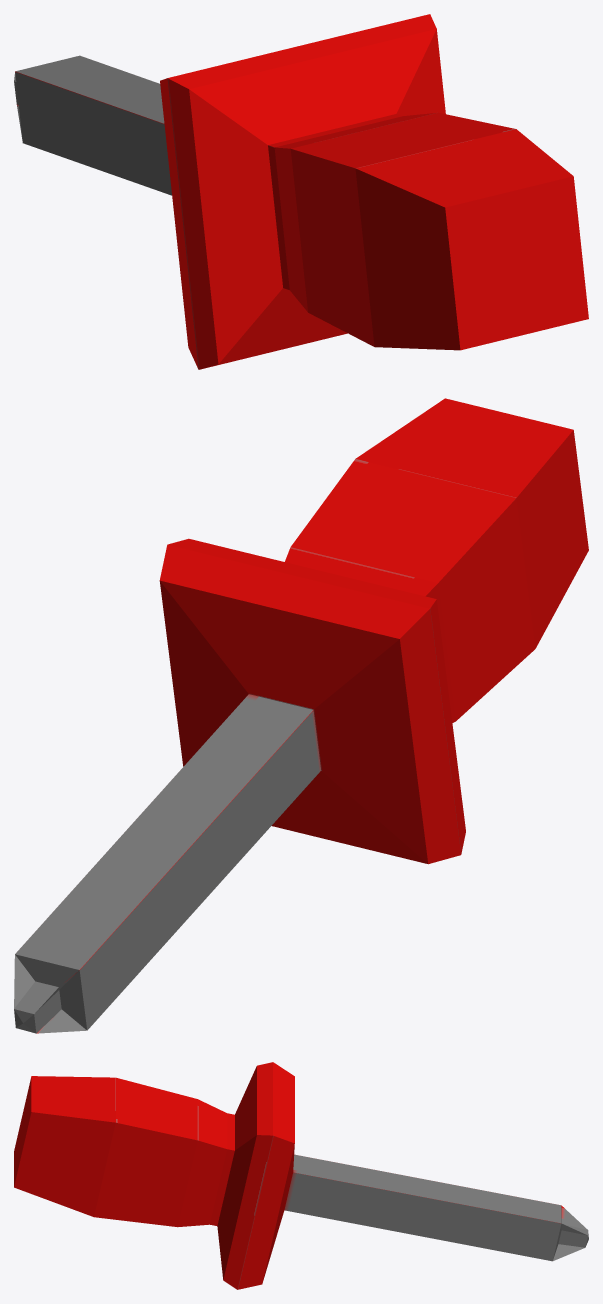
Rendered from tournevis.fbx.
3 renders of one model, top to bottom at view 1: azimuth 30°, elevation 25°; view 2: azimuth 150°, elevation 25°; view 3: azimuth 270°, elevation 25°, orthographic. The views are drawn at different scales.
Parts seen in each view (by area): view 1: Cube; view 2: Cube; view 3: Cube.
Part boxes in pixels (x1=…): Cube: x1=14, y1=14, x2=588, y2=369; Cube: x1=14, y1=398, x2=588, y2=1033; Cube: x1=14, y1=1062, x2=588, y2=1289.
Bounding box in the file's own units: 7.08 × 7.14 × 23.39.
